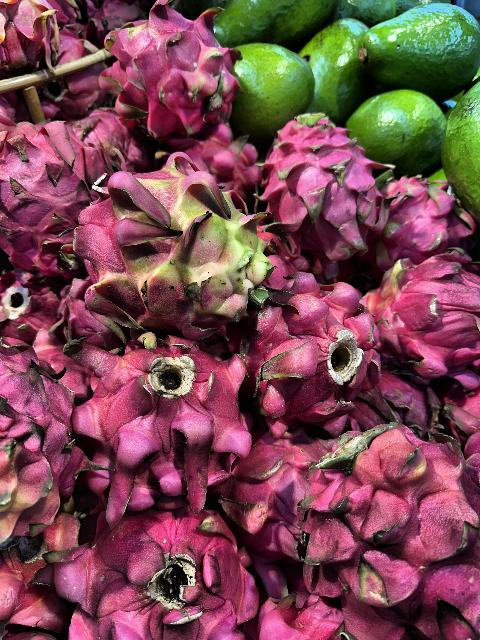buah-naga-belum-matang: (72, 169, 268, 325), (1, 341, 92, 534), (364, 258, 480, 384)
buah-naga-matang: (310, 427, 480, 627), (68, 332, 256, 504), (58, 506, 260, 640), (251, 270, 387, 426), (104, 0, 252, 126), (0, 108, 96, 272), (270, 109, 368, 251), (382, 170, 466, 266)
